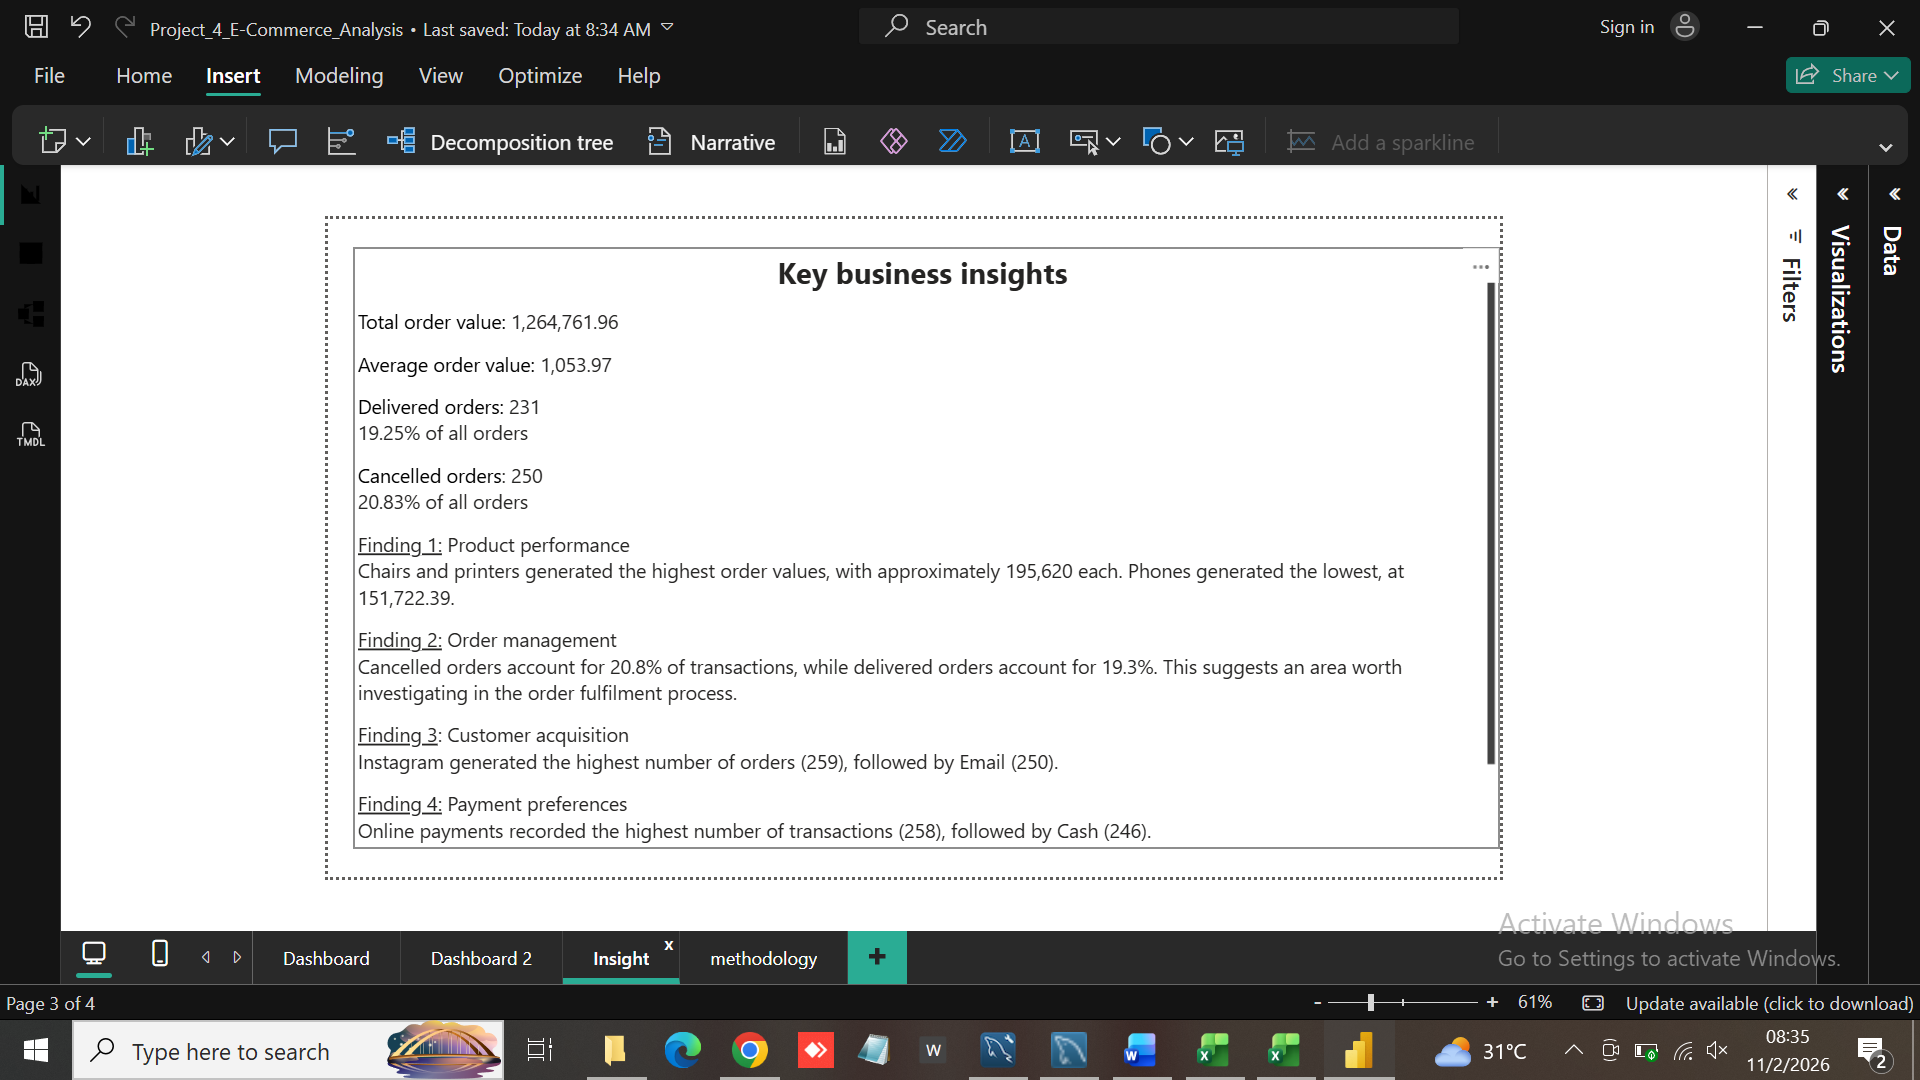

Layout of this report page (visuals, bound fields, positions):
{"tool":"powerbi","page":{"name":"Insight","canvas":[1280,720],"ordinal":2},"visuals":[{"type":"textbox","box":[27.9,31.1,1252.5,657.4],"z":0}]}

Visuals, with their boxes on the page's 1280x720 design canvas (x1, y1, x2, y2). These are canvas units, not pixel positions in the 1920x1080 screenshot, which may show the page scaled, cropped or inside an application window:
textbox: bbox(28, 31, 1280, 688)
